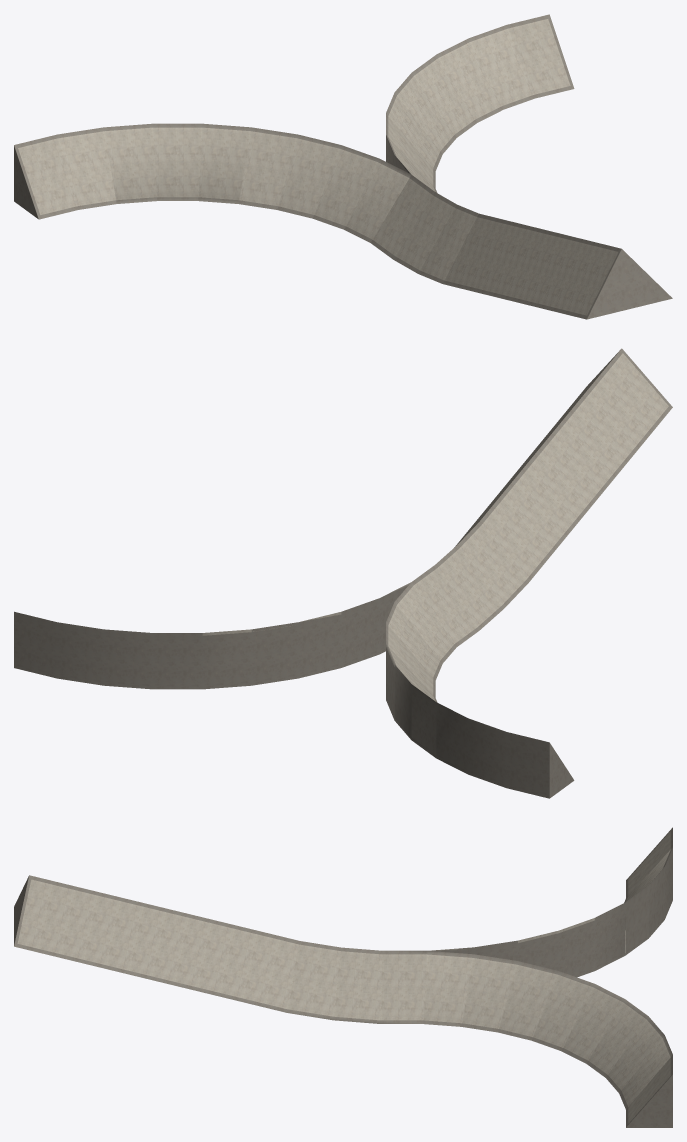
The model's file is split-ramp.glb.
3 renders of one model, top to bottom at view 1: azimuth 30°, elevation 25°; view 2: azimuth 150°, elevation 25°; view 3: azimuth 270°, elevation 25°, orthographic. The views are drawn at different scales.
Parts seen in each view (by area): view 1: ramp3.mdl/ramp3_ref; view 2: ramp3.mdl/ramp3_ref; view 3: ramp3.mdl/ramp3_ref.
Part boxes in pixels (<box>): ramp3.mdl/ramp3_ref: <box>14,14,672,319</box>; ramp3.mdl/ramp3_ref: <box>14,348,672,798</box>; ramp3.mdl/ramp3_ref: <box>14,827,672,1127</box>.
Size of the model in its own units: 63.64 by 15.47 by 71.64.
2 materials, 2 textured.
